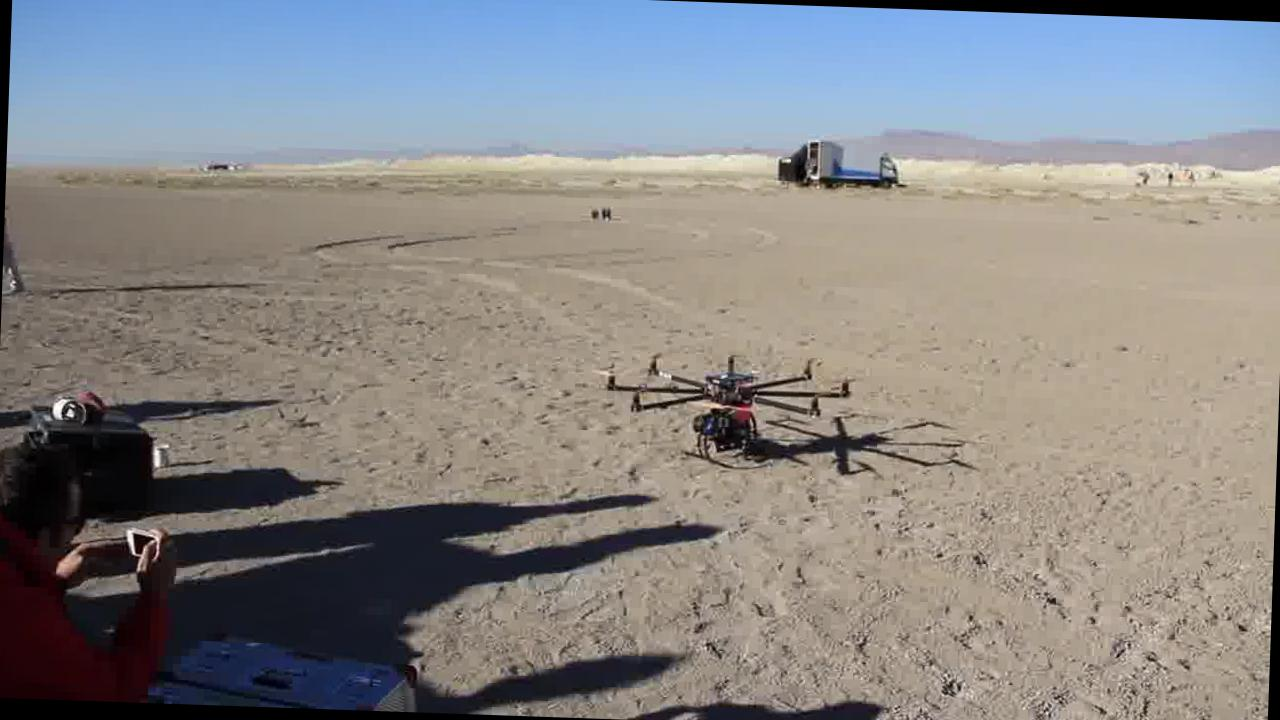drone: (594, 344, 856, 468)
